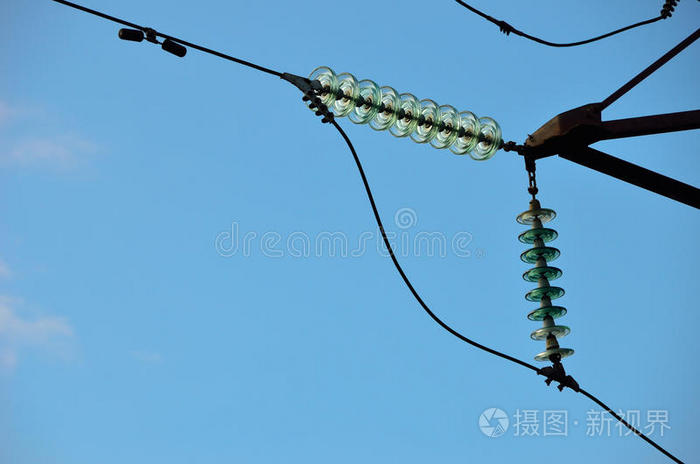insulator: (304, 67, 502, 161), (515, 205, 574, 358)
